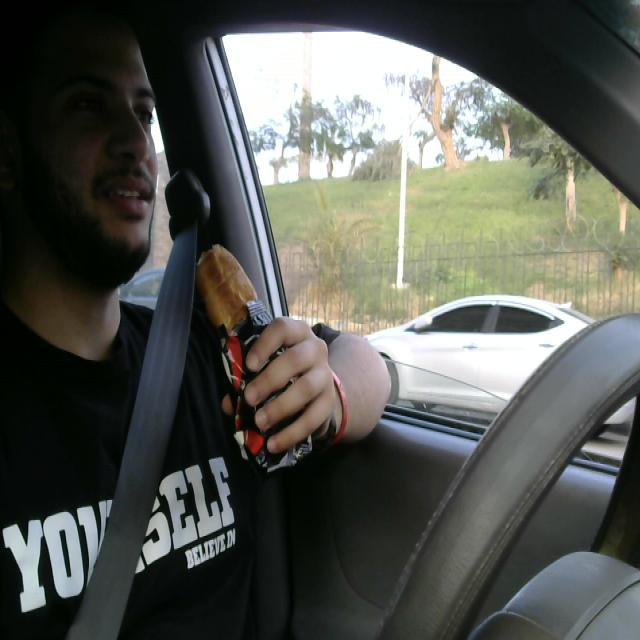eating: (190, 243, 318, 471)
